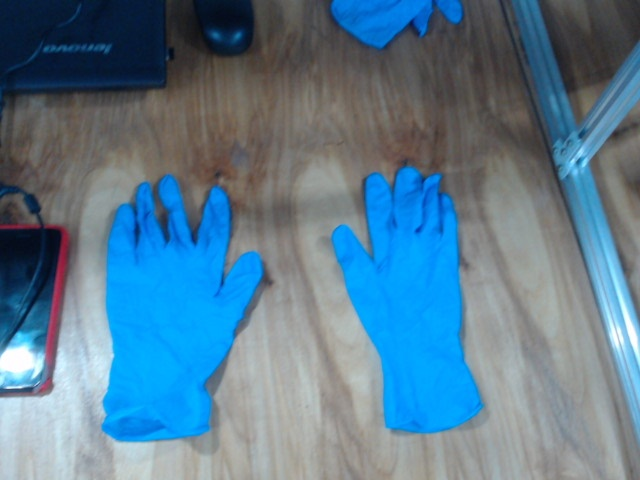medical_glove: (102, 175, 263, 443), (331, 166, 483, 433)
